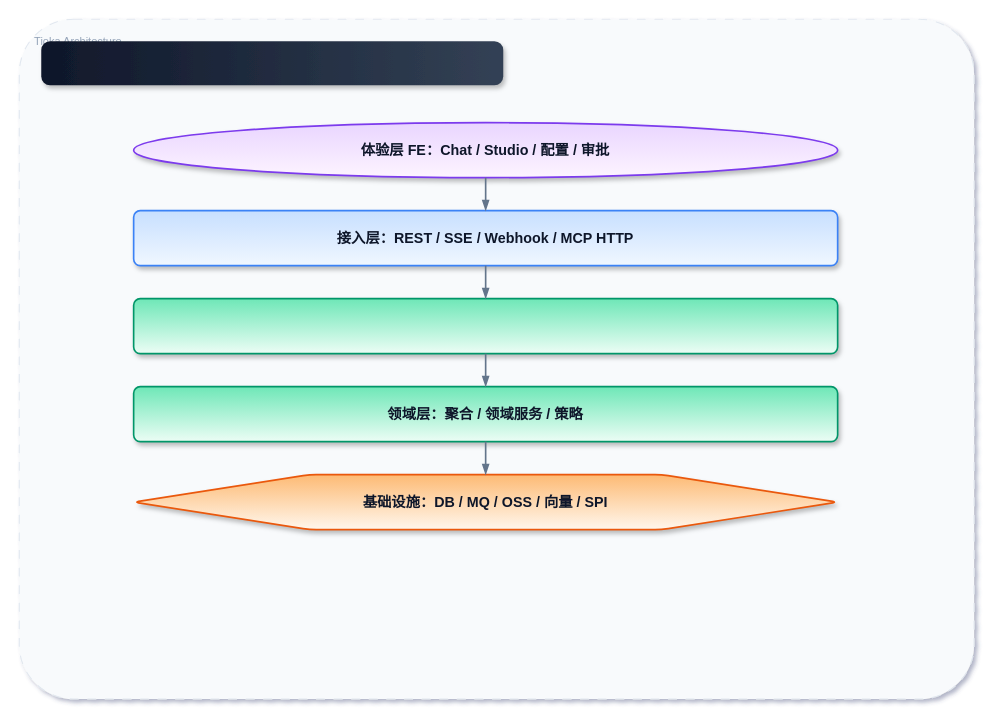
The diagram is 1000 pixels wide and 725 high, and some of its shapes have lost their labels. The shapes that lost their labels are listed below. From the top down, each one's centre as x and y in pixels, then its label:
the point at 272,64: 逻辑分层 · Layered Architecture
the point at 486,327: 应用服务层：*-biz 用例编排
